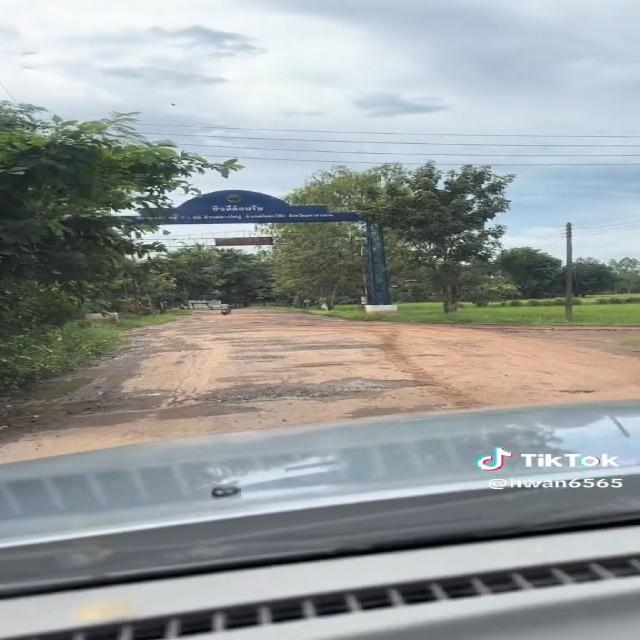Poth-hole: (152, 367, 242, 419)
